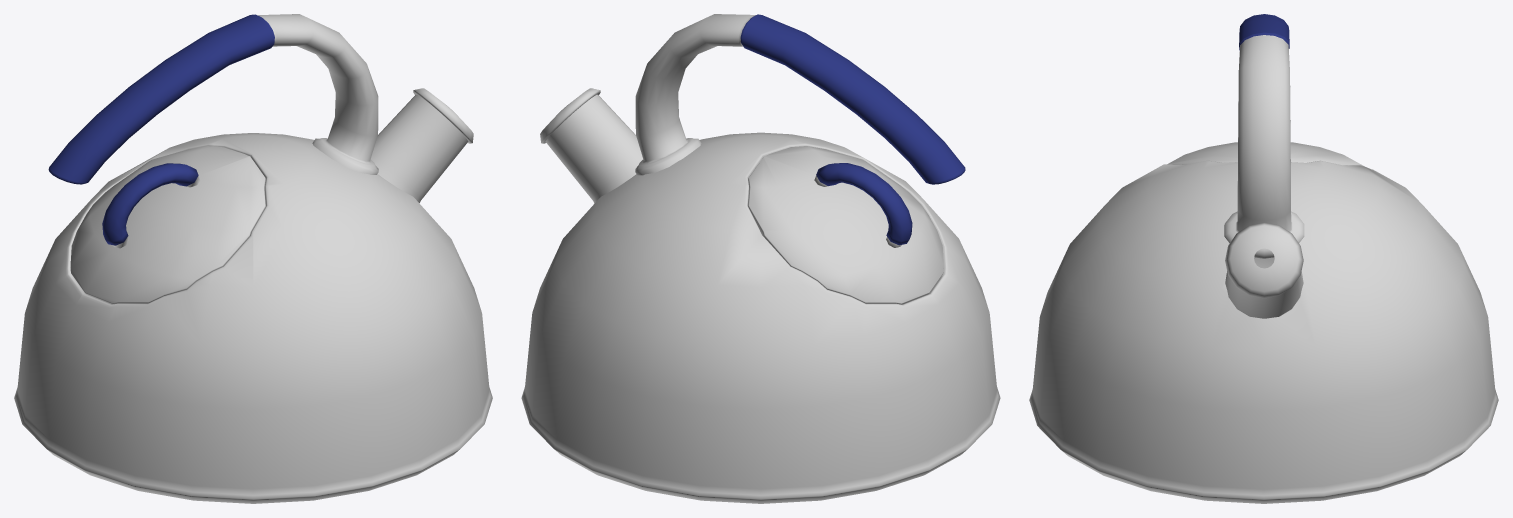
File: Kettle.fbx
The picture shows the model from 3 angles, left to right: view 1: azimuth 30°, elevation 25°; view 2: azimuth 150°, elevation 25°; view 3: azimuth 270°, elevation 25°; orthographic projection. The views are drawn at different scales.
Visible parts, largest first — view 1: Sphere.001, Torus; view 2: Sphere.001, Torus; view 3: Sphere.001, Torus.
Part boxes in pixels (x1,y1,x2,y2): Sphere.001: (14,14,492,503); Torus: (70,146,266,304); Sphere.001: (521,14,1000,503); Torus: (747,146,943,304); Sphere.001: (1029,14,1498,503); Torus: (1167,142,1363,166).
Bounding box in the file's own units: 206 × 180 × 202.
